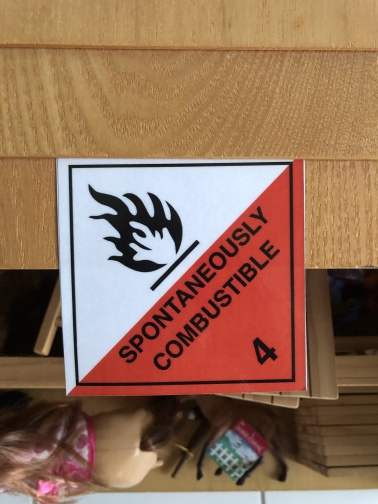SpontaneouslyCombustible: (56, 158, 310, 396)
